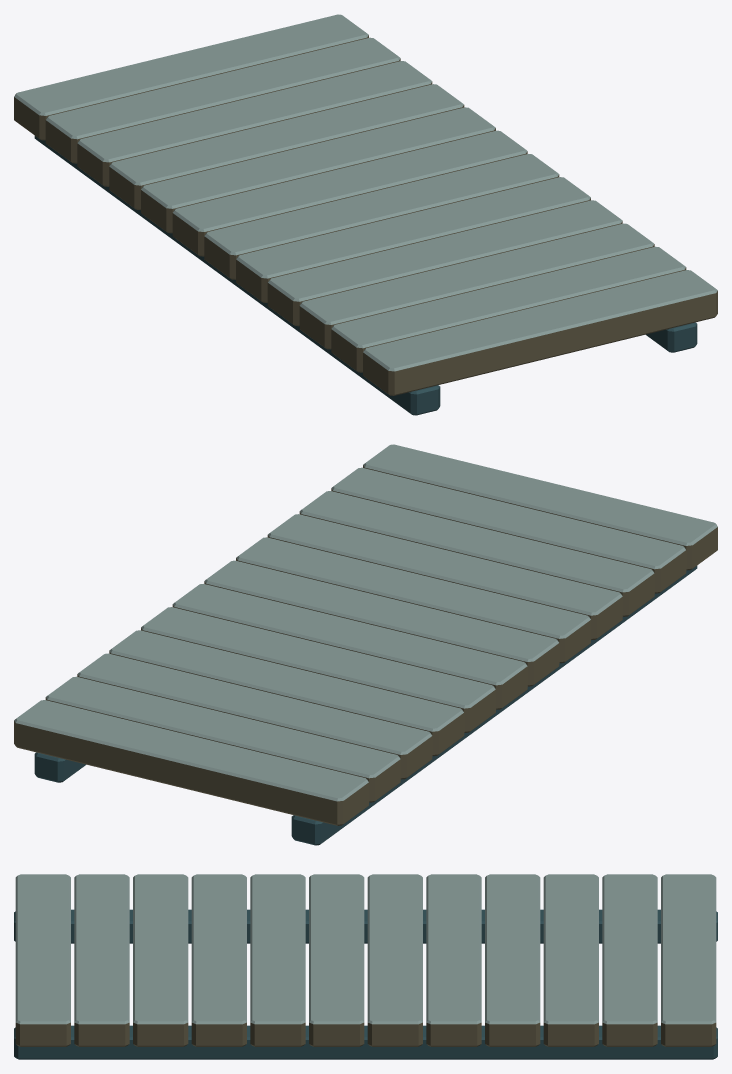
Rendered from bridge.glb.
3 renders of one model, top to bottom at view 1: azimuth 30°, elevation 25°; view 2: azimuth 150°, elevation 25°; view 3: azimuth 270°, elevation 25°, orthographic. The views are drawn at different scales.
Visible parts, largest first — view 1: bridge__body; view 2: bridge__body; view 3: bridge__body.
Part boxes in pixels (bbox=[...]): bridge__body: bbox=[14, 14, 717, 415]; bridge__body: bbox=[14, 444, 717, 845]; bridge__body: bbox=[14, 874, 717, 1059].
Size of the model in its own units: 2 by 0.3 by 4.
